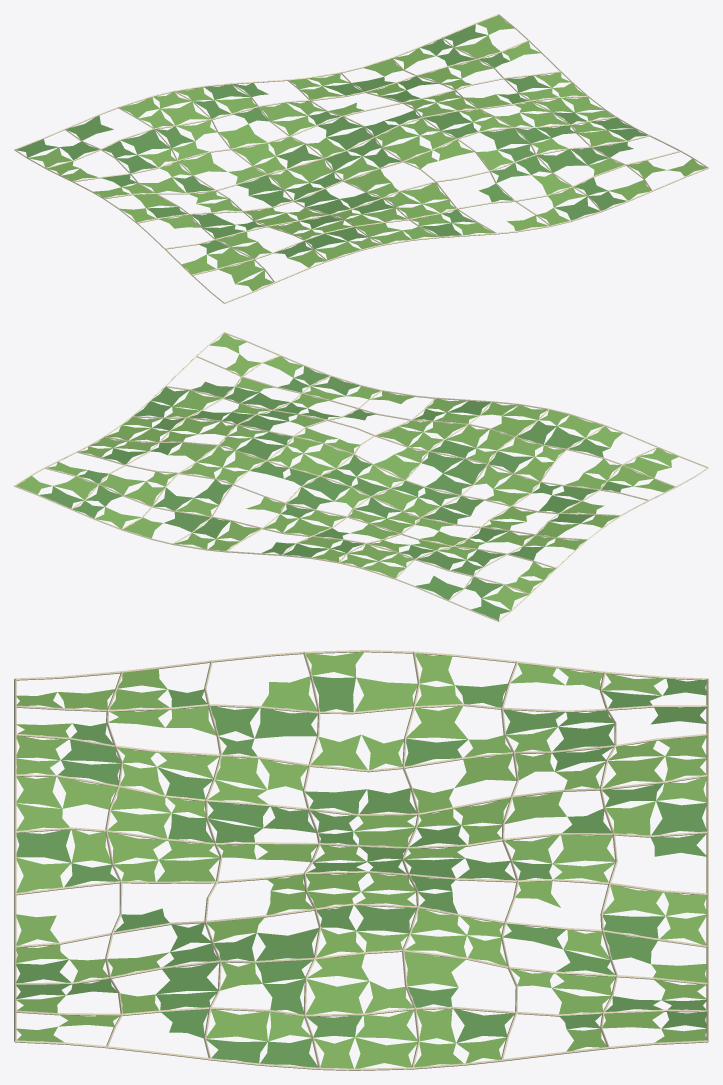
File: Camo_Cloth_Flat.fbx
3 renders of one model, top to bottom at view 1: azimuth 30°, elevation 25°; view 2: azimuth 150°, elevation 25°; view 3: azimuth 270°, elevation 25°, orthographic. The views are drawn at different scales.
Visible parts, largest first — view 1: Camo_Cloth_Flat; view 2: Camo_Cloth_Flat; view 3: Camo_Cloth_Flat.
Boxes of the visible parts, <box> form: Camo_Cloth_Flat: <box>14,14,708,303</box>; Camo_Cloth_Flat: <box>14,332,708,621</box>; Camo_Cloth_Flat: <box>14,650,708,1070</box>.
Size of the model in its own units: 401 by 18.7 by 301.
